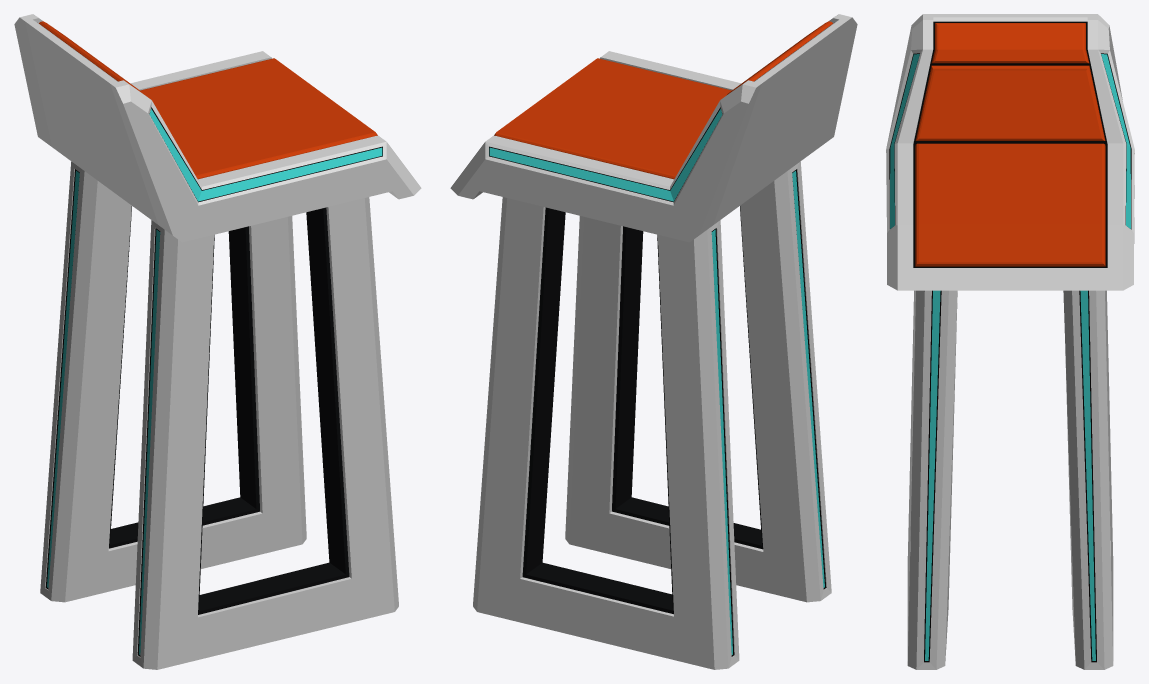
The model's file is SM_BarStool.obj.
The picture shows the model from 3 angles, left to right: view 1: azimuth 30°, elevation 25°; view 2: azimuth 150°, elevation 25°; view 3: azimuth 270°, elevation 25°; orthographic projection. The views are drawn at different scales.
Visible parts, largest first — view 1: SM_BarStool; view 2: SM_BarStool; view 3: SM_BarStool.
Boxes of the visible parts, x1,y1,x2,y2 form: SM_BarStool: [14, 14, 421, 669]; SM_BarStool: [450, 14, 857, 669]; SM_BarStool: [886, 14, 1134, 669].
Bounding box in the file's own units: 0.5106 × 0.9762 × 0.4139.
